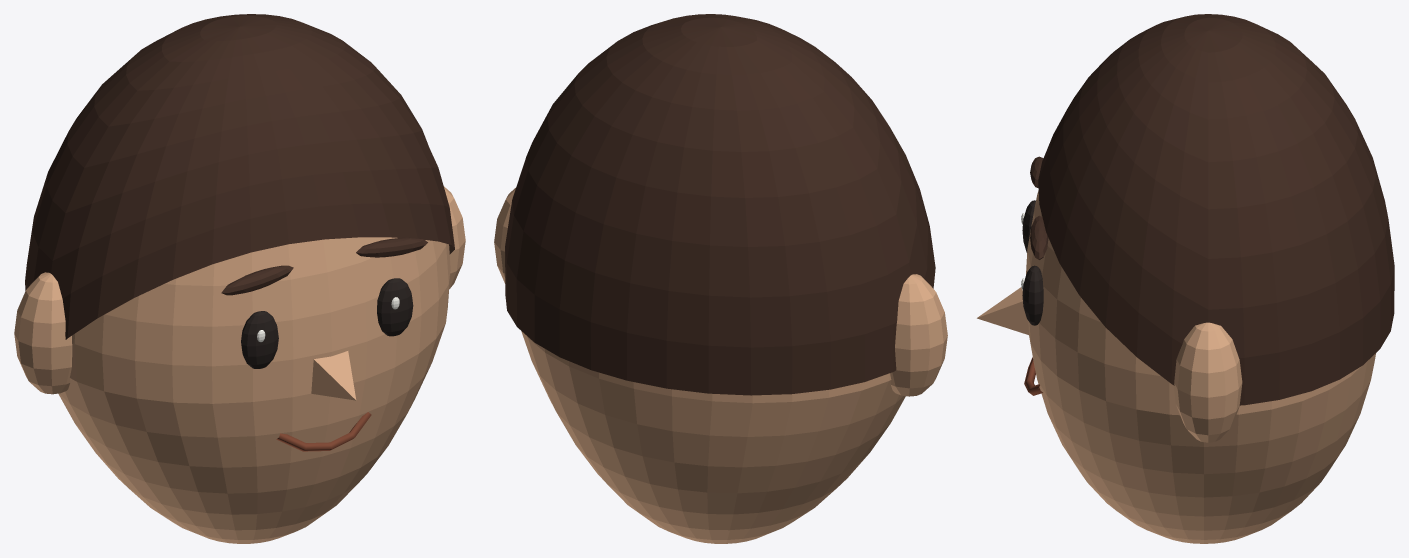
File: cabeca-mii-poligonal-01.fbx
3 renders of one model, left to right at view 1: azimuth 30°, elevation 25°; view 2: azimuth 150°, elevation 25°; view 3: azimuth 270°, elevation 25°, orthographic.
Parts seen in each view (by area): view 1: Cabelo_01, Cabeca_01, Orelha_L, Nariz_01, Olho_L, Olho_R, Sobrancelha, Orelha_R, Sobrancelha.001, Boca_01; view 2: Cabelo_01, Cabeca_01, Orelha_L, Orelha_R; view 3: Cabelo_01, Cabeca_01, Orelha_R, Nariz_01, Olho_R, Sobrancelha.001.
Part boxes in pixels (bbox=[...]): Cabelo_01: bbox=[25, 14, 454, 339]; Cabeca_01: bbox=[58, 237, 450, 543]; Orelha_L: bbox=[14, 272, 72, 394]; Nariz_01: bbox=[311, 351, 356, 400]; Olho_L: bbox=[241, 311, 278, 368]; Olho_R: bbox=[377, 278, 413, 336]; Sobrancelha: bbox=[221, 265, 293, 295]; Orelha_R: bbox=[443, 186, 465, 288]; Sobrancelha.001: bbox=[356, 237, 427, 257]; Boca_01: bbox=[276, 412, 371, 451]; Cabelo_01: bbox=[505, 14, 935, 395]; Cabeca_01: bbox=[521, 331, 905, 543]; Orelha_L: bbox=[890, 274, 947, 396]; Orelha_R: bbox=[494, 188, 515, 283]; Cabelo_01: bbox=[1038, 14, 1394, 405]; Cabeca_01: bbox=[1026, 190, 1375, 543]; Orelha_R: bbox=[1173, 322, 1242, 442]; Nariz_01: bbox=[977, 287, 1028, 334]; Olho_R: bbox=[1022, 265, 1043, 325]; Sobrancelha.001: bbox=[1030, 215, 1048, 259].
Bounding box in the file's own units: 188 × 204 × 154.
